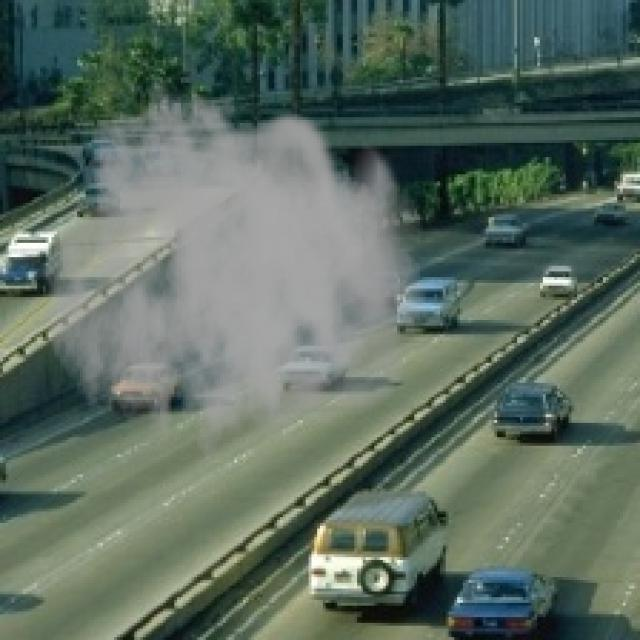smoke: (43, 77, 426, 483)
